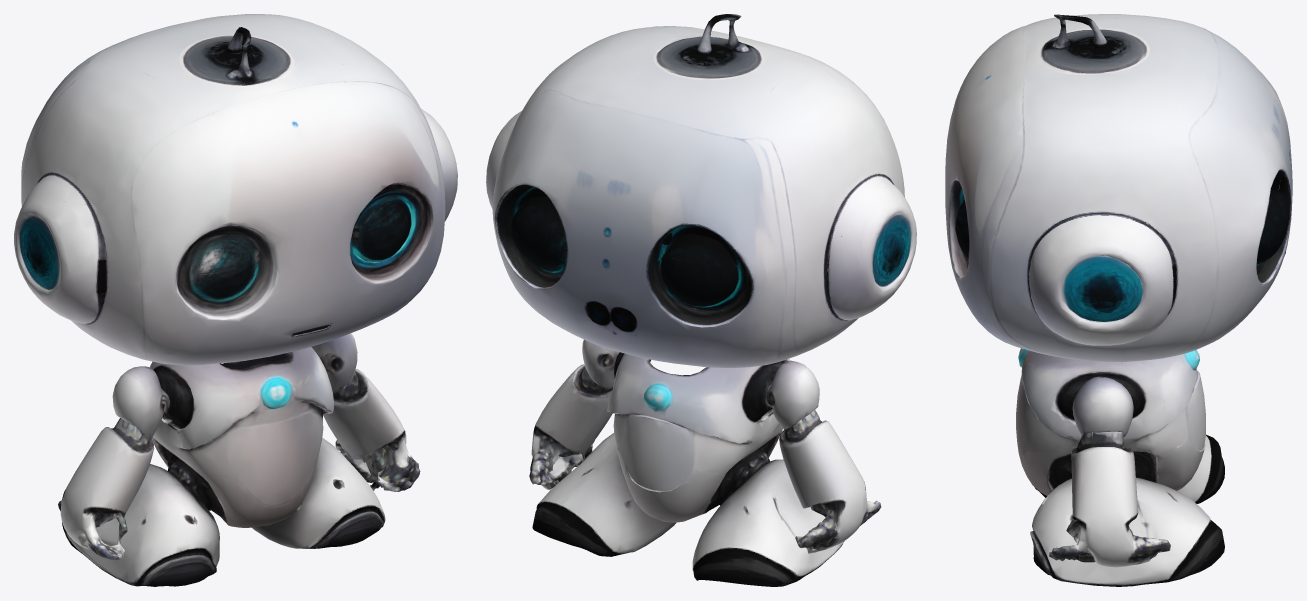
Rendered from the_ultimate_game-ready_robot_companion.glb.
3 views of the same model, side by side, from view 1: azimuth 30°, elevation 25°; view 2: azimuth 150°, elevation 25°; view 3: azimuth 270°, elevation 25° (orthographic). The views are drawn at different scales.
Parts seen in each view (by area): view 1: world_0; view 2: world_0; view 3: world_0.
Boxes of the visible parts, x1,y1,x2,y2 form: world_0: [14, 14, 457, 586]; world_0: [486, 14, 916, 586]; world_0: [945, 14, 1292, 586].
Bounding box in the file's own units: 0.7945 × 0.9992 × 0.6169.
Materials: 1 (1 with a texture image).
